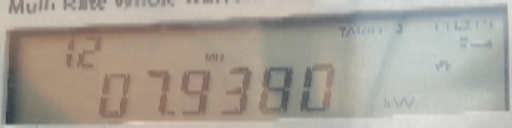0: (96, 66, 135, 122), (301, 61, 334, 116)
3: (221, 63, 249, 121)
7: (144, 65, 170, 115)
8: (258, 61, 297, 119)
9: (179, 63, 212, 120)
d: (166, 106, 178, 119)
